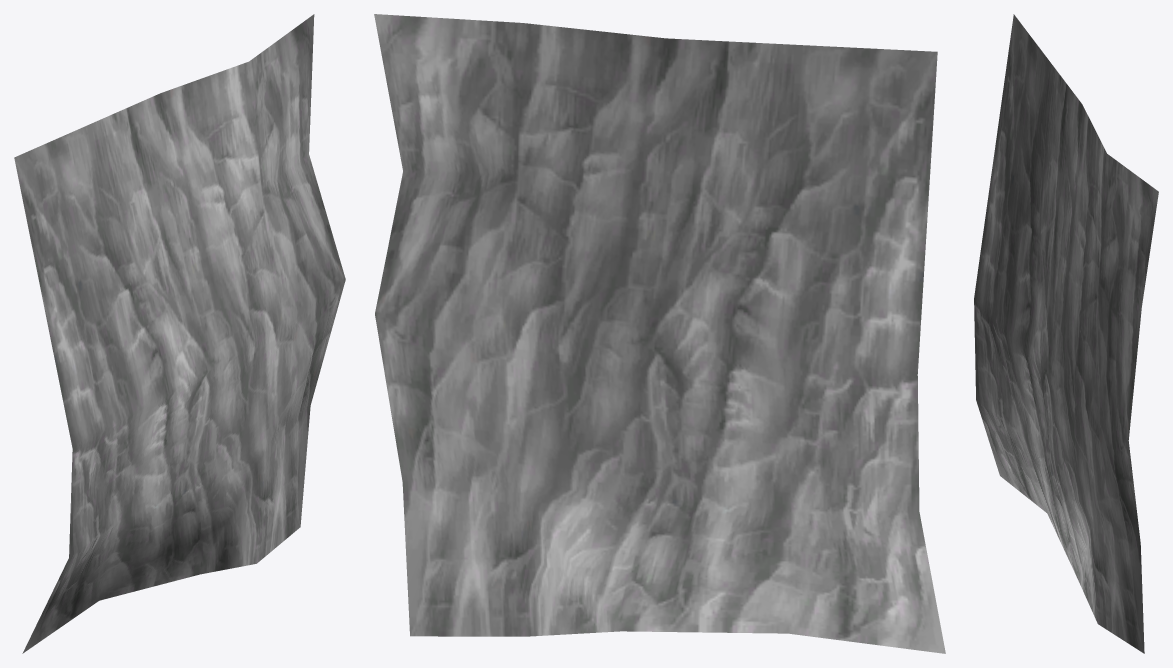
The model's file is SWORDLIGHT20_PS-AREA03_75.fbx.
The picture shows the model from 3 angles, left to right: view 1: azimuth 30°, elevation 25°; view 2: azimuth 150°, elevation 25°; view 3: azimuth 270°, elevation 25°; orthographic projection. The views are drawn at different scales.
Visible parts, largest first — view 1: SWORDLIGHT20_PS-AREA03_75; view 2: SWORDLIGHT20_PS-AREA03_75; view 3: SWORDLIGHT20_PS-AREA03_75.
Boxes of the visible parts, left/top/right/bottom form: SWORDLIGHT20_PS-AREA03_75: left=14, top=14, right=345, bottom=653; SWORDLIGHT20_PS-AREA03_75: left=374, top=14, right=945, bottom=653; SWORDLIGHT20_PS-AREA03_75: left=974, top=14, right=1158, bottom=653.
Bounding box in the file's own units: 81837 × 101355 × 35513.
1 material, 1 textured.
